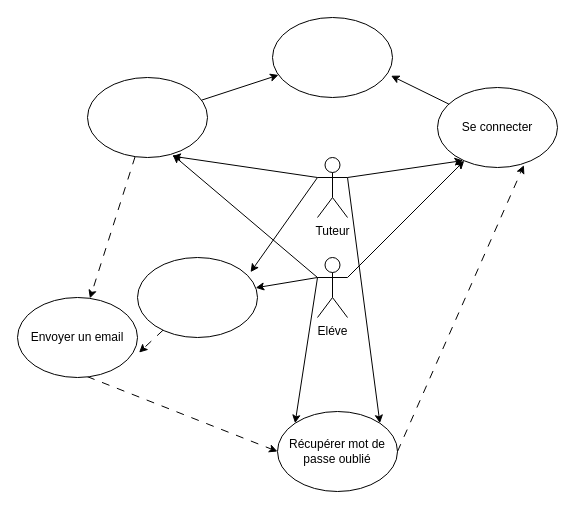
The diagram is 575 pixels wide and 509 high, and some of its shapes have lost their labels. The box of each missing label's shape, as (x1, y1, x2, y2) in pixels:
Créer un compte: (86, 76, 208, 158)
Dashboard: (272, 16, 392, 98)
Demande mot de passe oublié: (136, 256, 258, 338)
